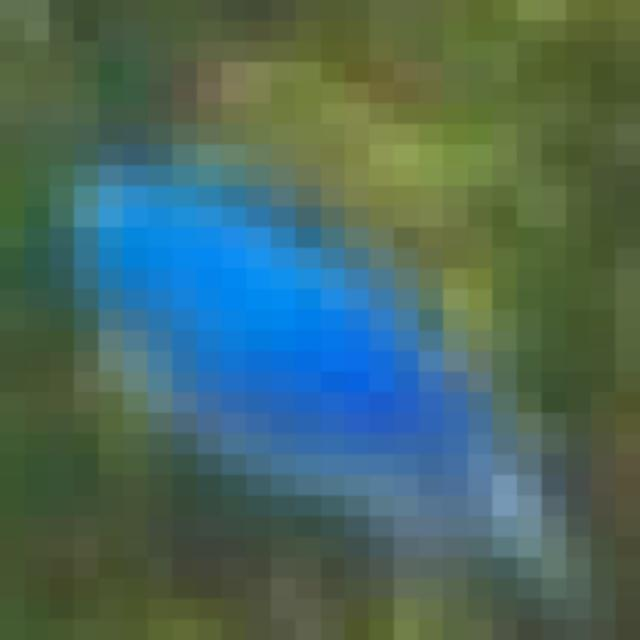fish: (24, 20, 640, 640)
